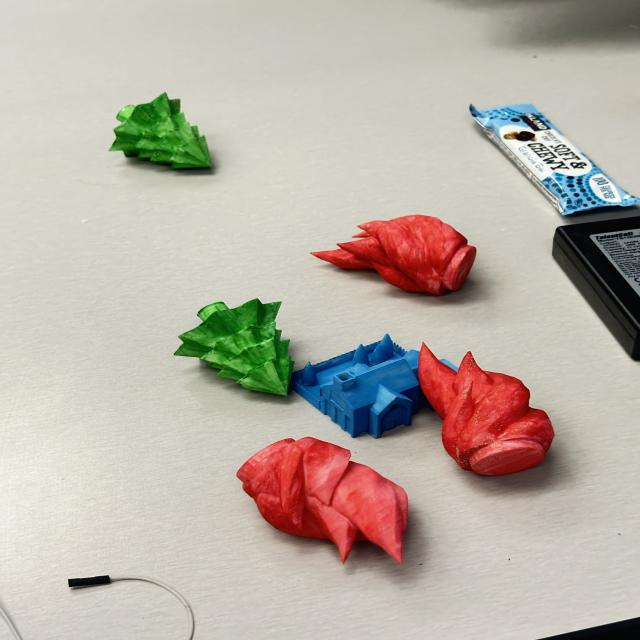fire: (235, 435, 409, 565), (416, 341, 555, 476), (309, 213, 478, 296)
house: (288, 332, 458, 440)
tree: (173, 297, 296, 397), (107, 91, 213, 171)
